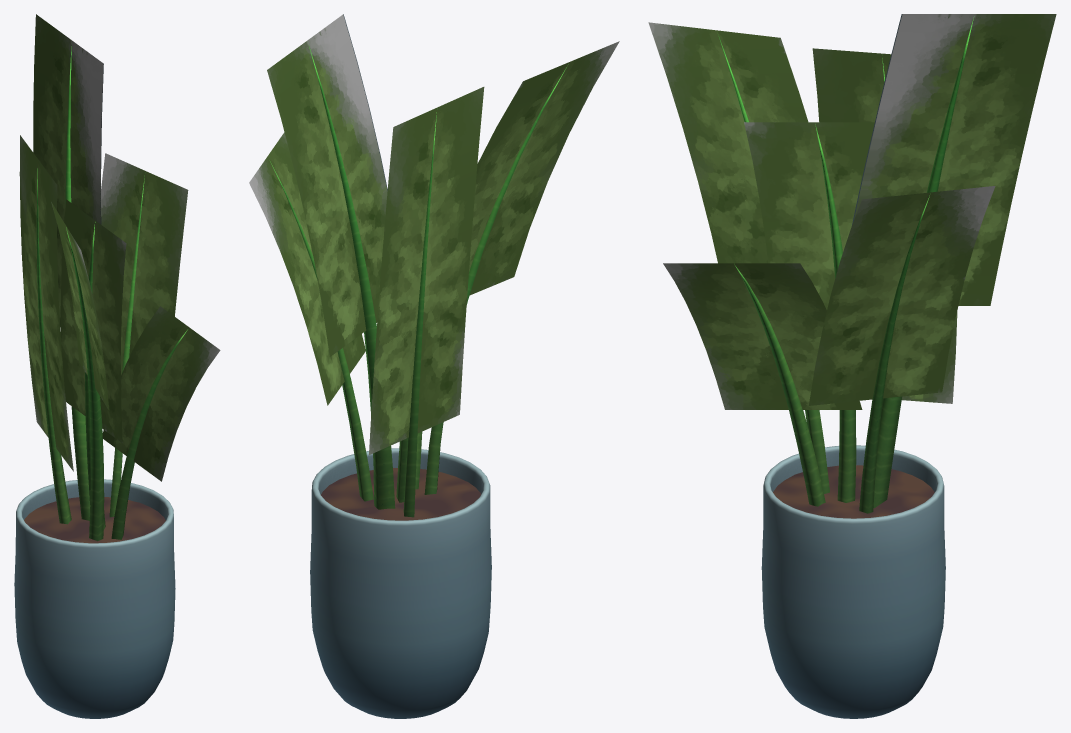
File: SM_Flowerpot.fbx
3 renders of one model, left to right at view 1: azimuth 30°, elevation 25°; view 2: azimuth 150°, elevation 25°; view 3: azimuth 270°, elevation 25°, orthographic. The views are drawn at different scales.
Visible parts, largest first — view 1: flowerpot.001, flowerpot.002; view 2: flowerpot.001, flowerpot.002; view 3: flowerpot.001, flowerpot.002.
Boxes of the visible parts, bbox=[...] form: flowerpot.001: bbox=[19, 14, 220, 481]; flowerpot.002: bbox=[14, 46, 187, 718]; flowerpot.001: bbox=[249, 14, 619, 454]; flowerpot.002: bbox=[269, 45, 568, 718]; flowerpot.001: bbox=[648, 14, 1056, 409]; flowerpot.002: bbox=[717, 16, 974, 718].
Size of the model in its own units: 59.75 by 175 by 92.21.
